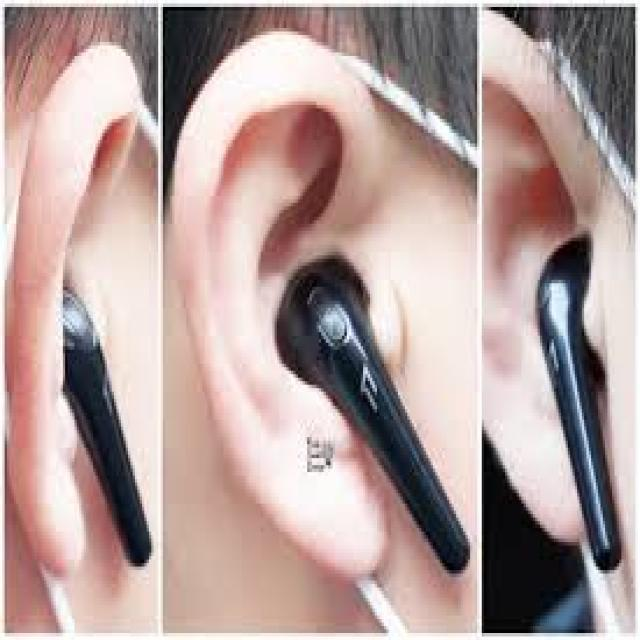earphone: (270, 236, 489, 574), (45, 270, 195, 589), (516, 235, 640, 566)
